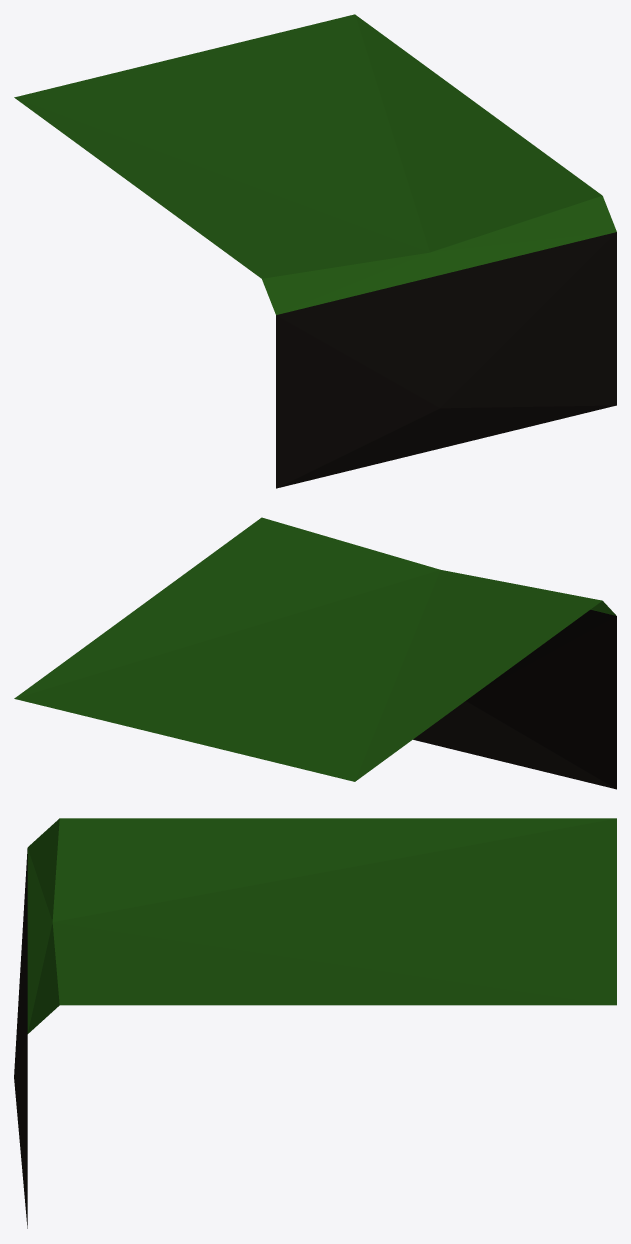
Rendered from 2D_Ground_Top_1.fbx.
The picture shows the model from 3 angles, top to bottom: view 1: azimuth 30°, elevation 25°; view 2: azimuth 150°, elevation 25°; view 3: azimuth 270°, elevation 25°; orthographic projection. The views are drawn at different scales.
Visible parts, largest first — view 1: 2D_Ground_Top_1; view 2: 2D_Ground_Top_1; view 3: 2D_Ground_Top_1.
Boxes of the visible parts, x1,y1,x2,y2 form: 2D_Ground_Top_1: [14, 14, 616, 488]; 2D_Ground_Top_1: [14, 517, 616, 789]; 2D_Ground_Top_1: [14, 818, 616, 1228].
Size of the model in its own units: 652 by 364 by 887.
